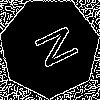N: (24, 23, 80, 75)
